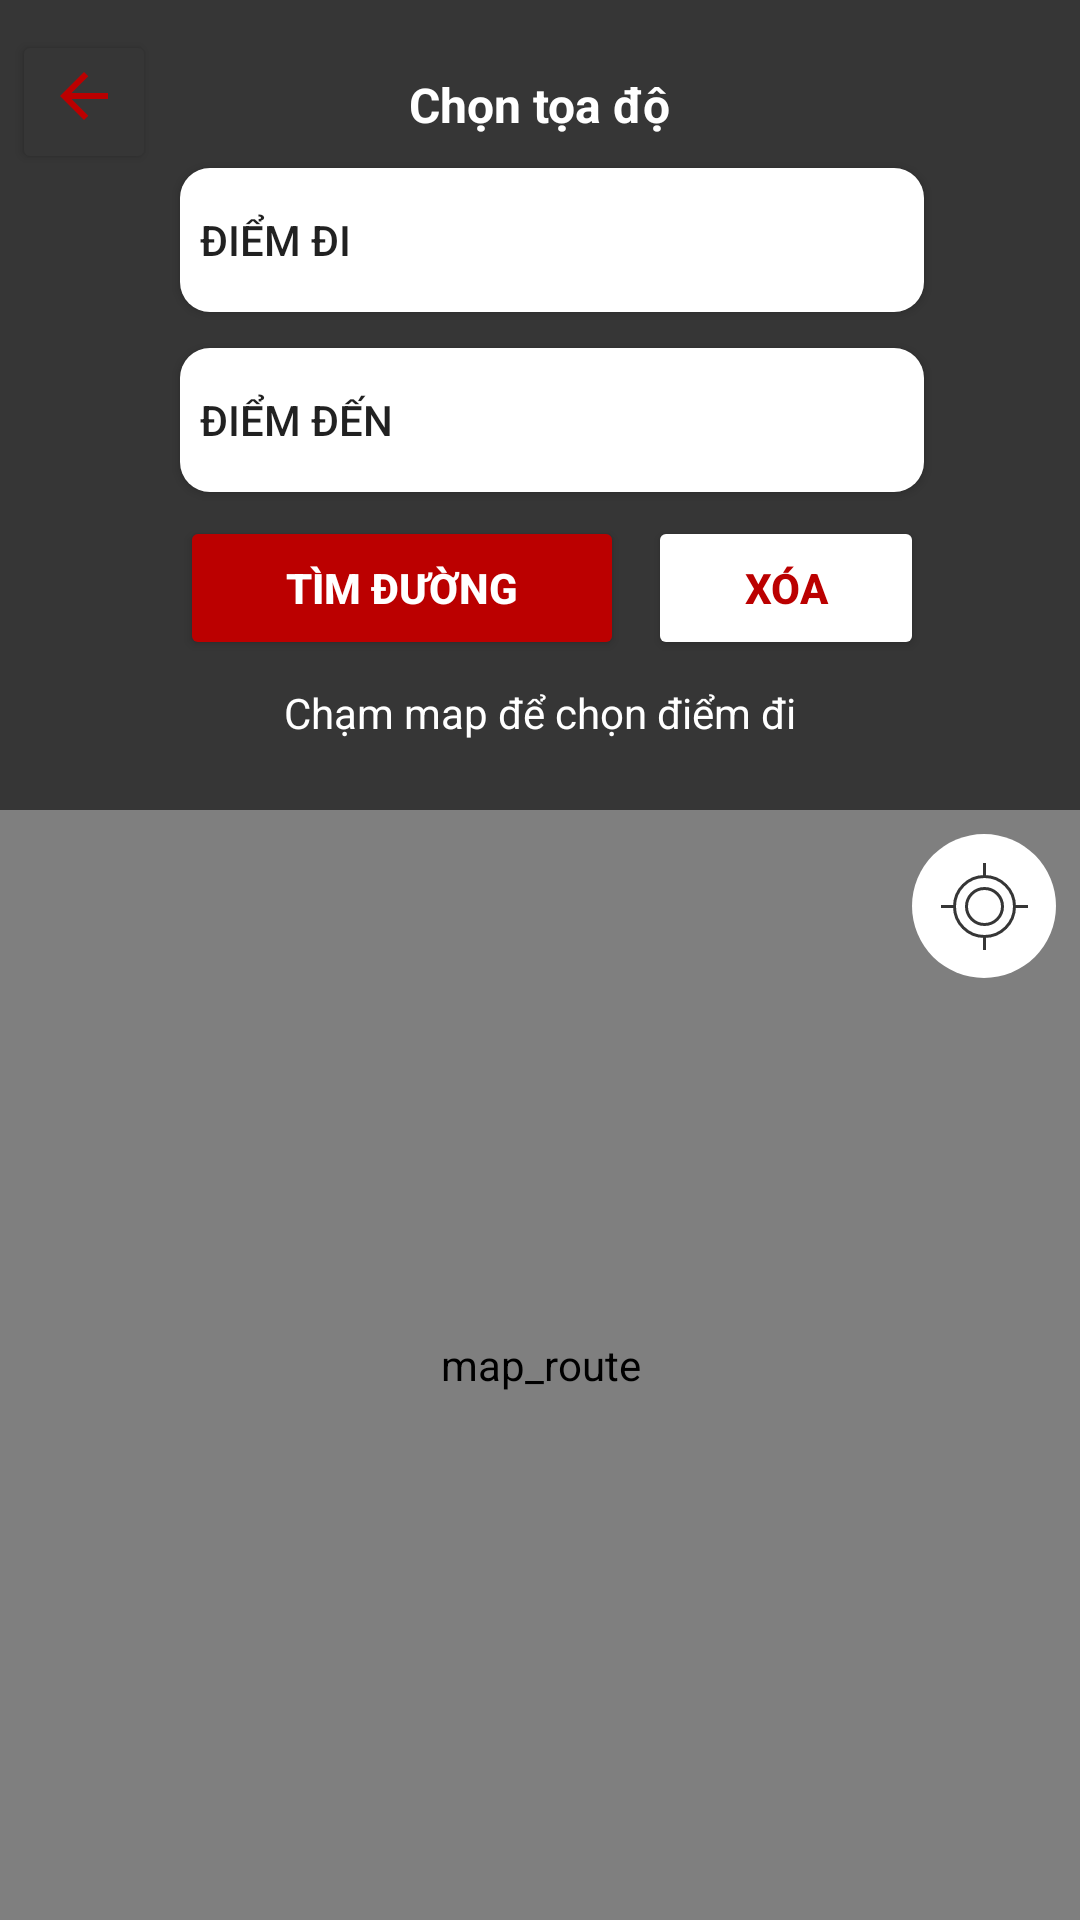

Icons on this 1080w x 1920h Android screen, each with the point to tap as (x=x, y=y):
recenter: (x=984, y=906)
